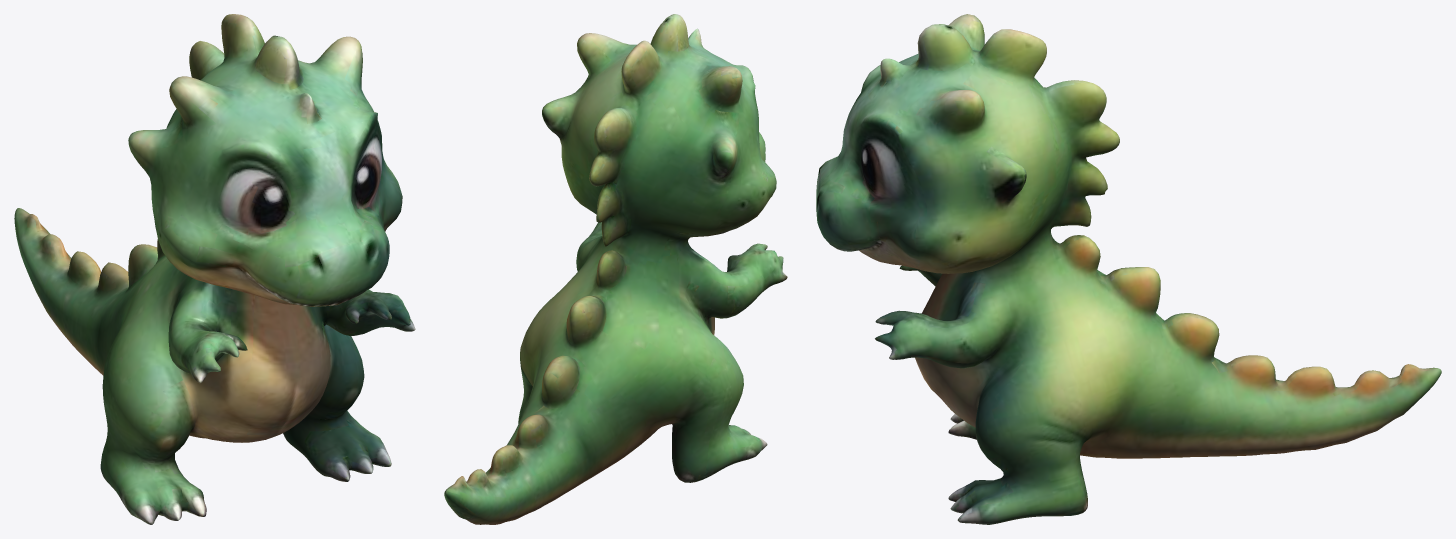
3 renders of one model, left to right at view 1: azimuth 30°, elevation 25°; view 2: azimuth 150°, elevation 25°; view 3: azimuth 270°, elevation 25°, orthographic. The views are drawn at different scales.
Bounding box in the file's own units: 0.889 × 1.57 × 2.
1 material, 1 textured.
